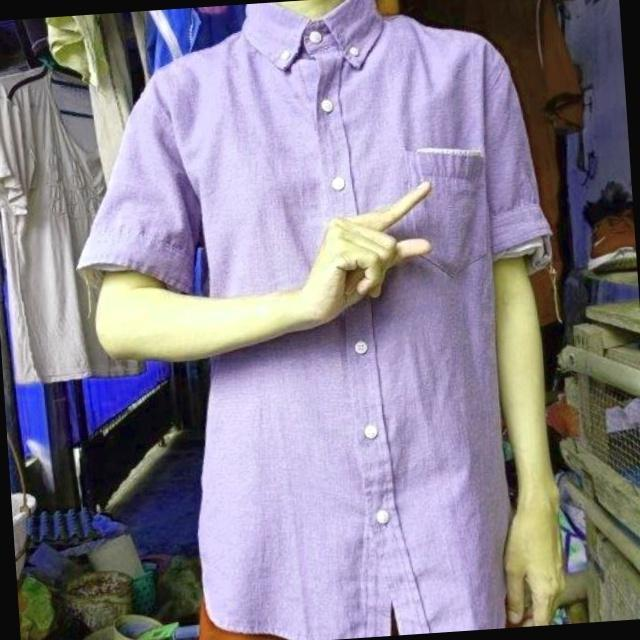R: (324, 170, 444, 303)
